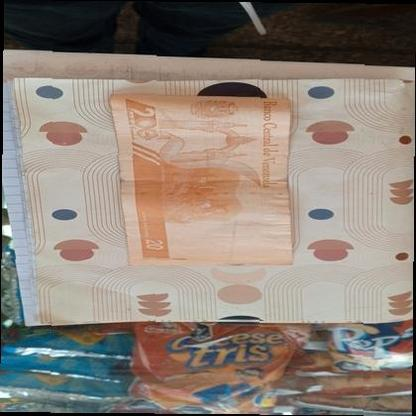vef_back: (108, 94, 293, 266)
